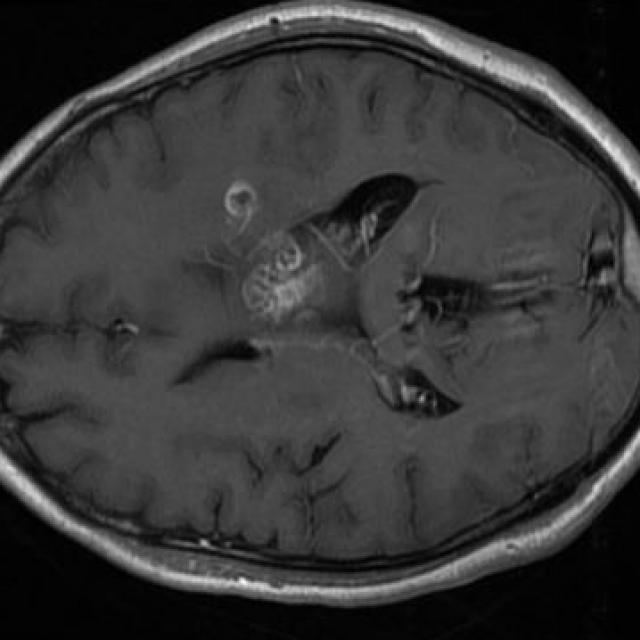glioma: (194, 180, 348, 328)
